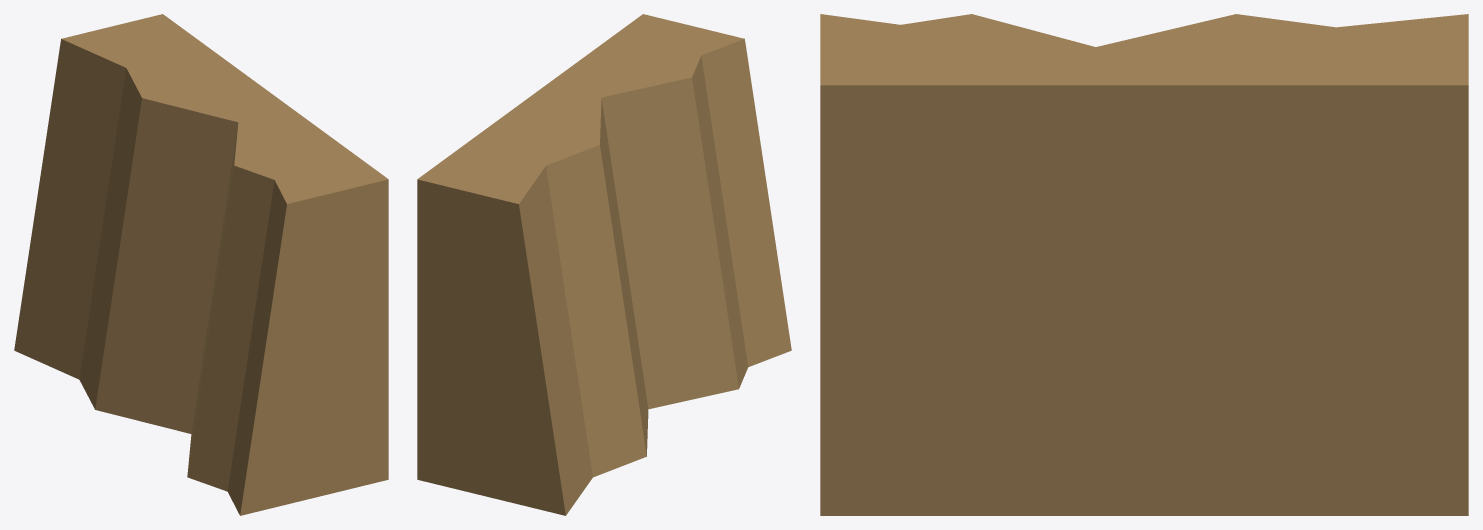
File: Brown_Cliff_Bottom_01.obj
The picture shows the model from 3 angles, left to right: view 1: azimuth 30°, elevation 25°; view 2: azimuth 150°, elevation 25°; view 3: azimuth 270°, elevation 25°; orthographic projection. The views are drawn at different scales.
Parts seen in each view (by area): view 1: Mesh1 Brown_Cliff_Bottom Model; view 2: Mesh1 Brown_Cliff_Bottom Model; view 3: Mesh1 Brown_Cliff_Bottom Model.
Boxes of the visible parts, <box> form: Mesh1 Brown_Cliff_Bottom Model: <box>14,14,388,515</box>; Mesh1 Brown_Cliff_Bottom Model: <box>417,14,791,515</box>; Mesh1 Brown_Cliff_Bottom Model: <box>820,14,1468,515</box>.
Size of the model in its own units: 1.14 by 2.2 by 3.
1 material, 1 textured.
